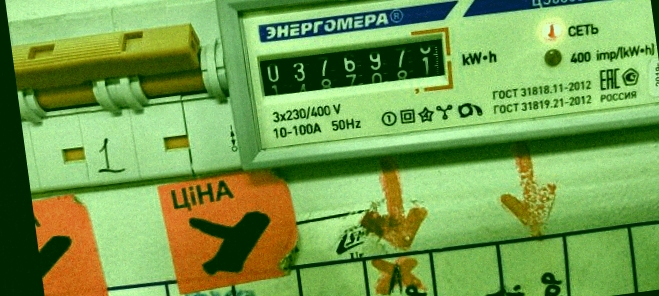0: (262, 60, 281, 83)
1: (419, 54, 432, 76)
3: (289, 59, 306, 83)
6: (341, 50, 356, 72)
7: (315, 52, 331, 78), (391, 44, 407, 69)
9: (365, 47, 381, 71)
screen: (249, 23, 459, 117)
